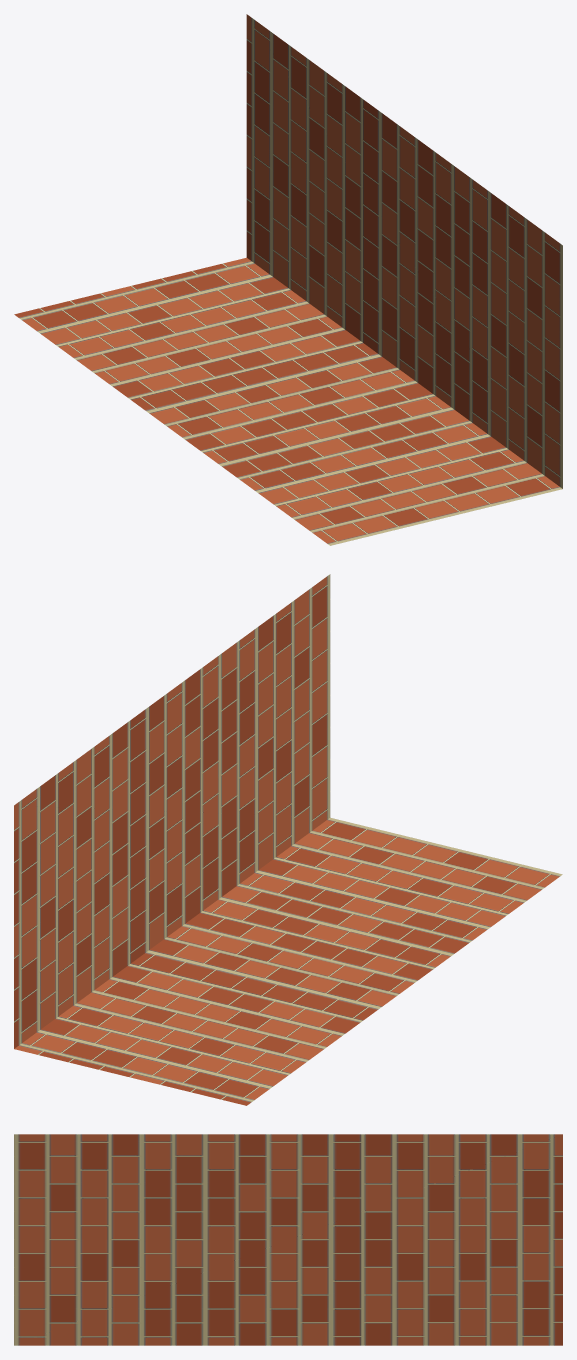
The model's file is corner03.fbx.
3 views of the same model, one above another, from view 1: azimuth 30°, elevation 25°; view 2: azimuth 150°, elevation 25°; view 3: azimuth 270°, elevation 25° (orthographic). The views are drawn at different scales.
Parts seen in each view (by area): view 1: Cube; view 2: Cube; view 3: Cube.
Boxes of the visible parts, left/top/right/bottom form: Cube: left=14, top=14, right=562, bottom=545; Cube: left=14, top=574, right=562, bottom=1105; Cube: left=14, top=1134, right=562, bottom=1345.
Size of the model in its own units: 170 by 170 by 400.
